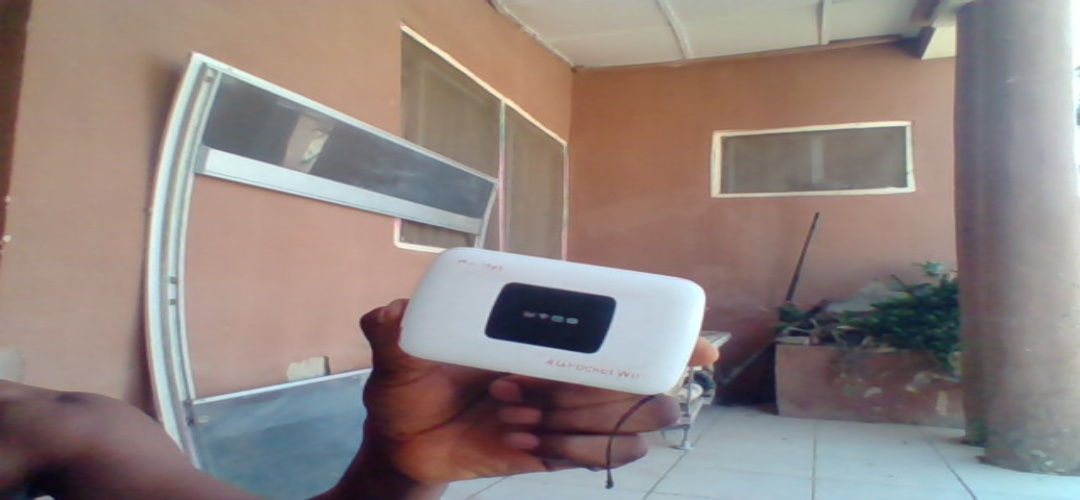mifi: (404, 243, 707, 396)
